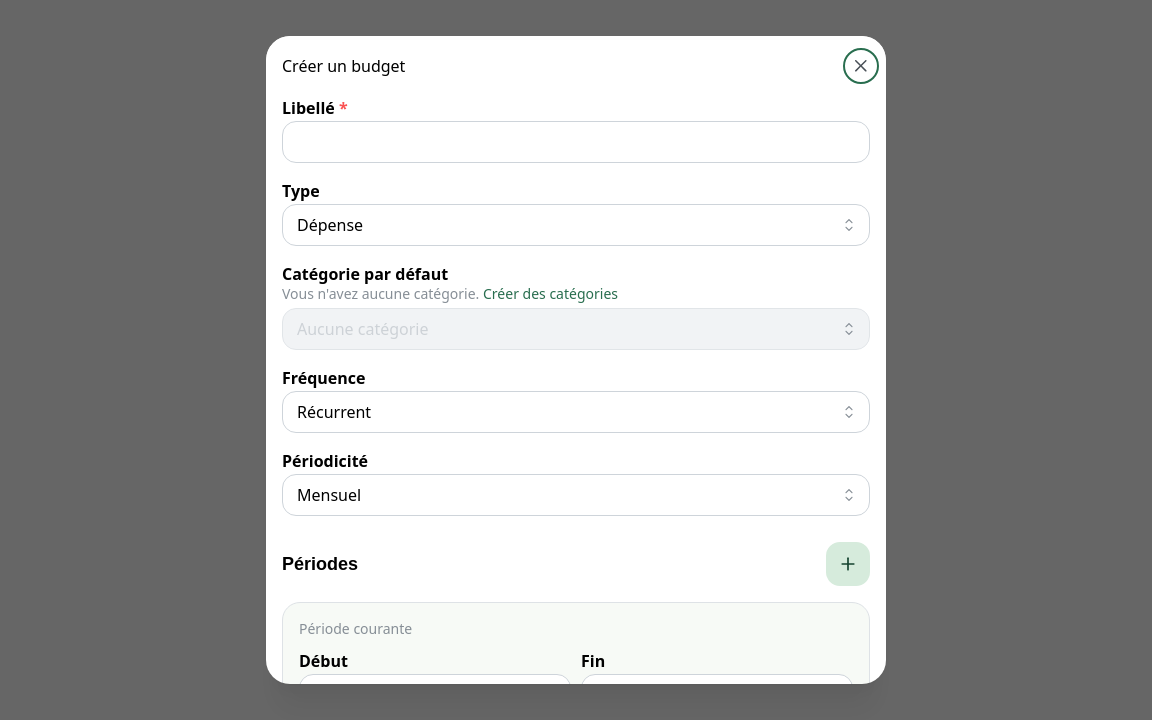
BudgetModal › adds and removes periods
This screenshot has width=1152, height=720.
Expected: the text "Période courante" is shown, [299,619,412,639]
Expected: the text "Période 1" is not shown
Add a period
Click the button named "Ajouter une période".
click(848, 564)  # box [826,542,870,586]
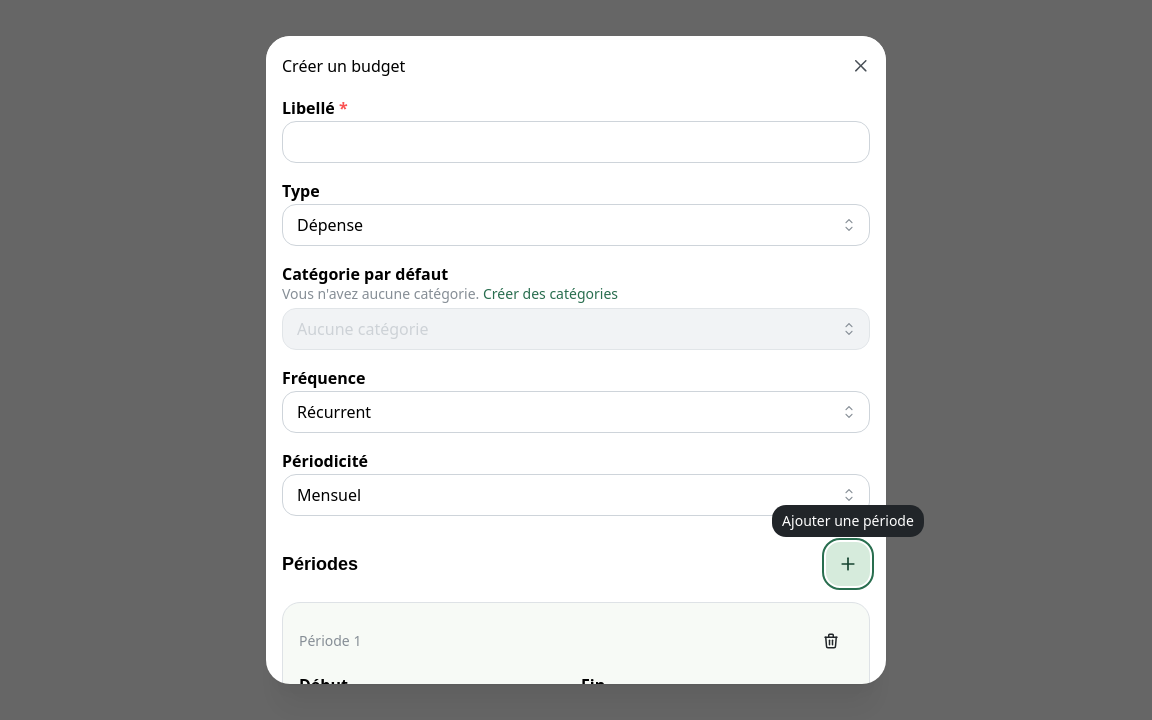
Expected: the text "Période 1" is shown, [299,631,361,651]
Remove the first period
Click the button named "Supprimer".
click(831, 641)  # box [809,619,853,663]
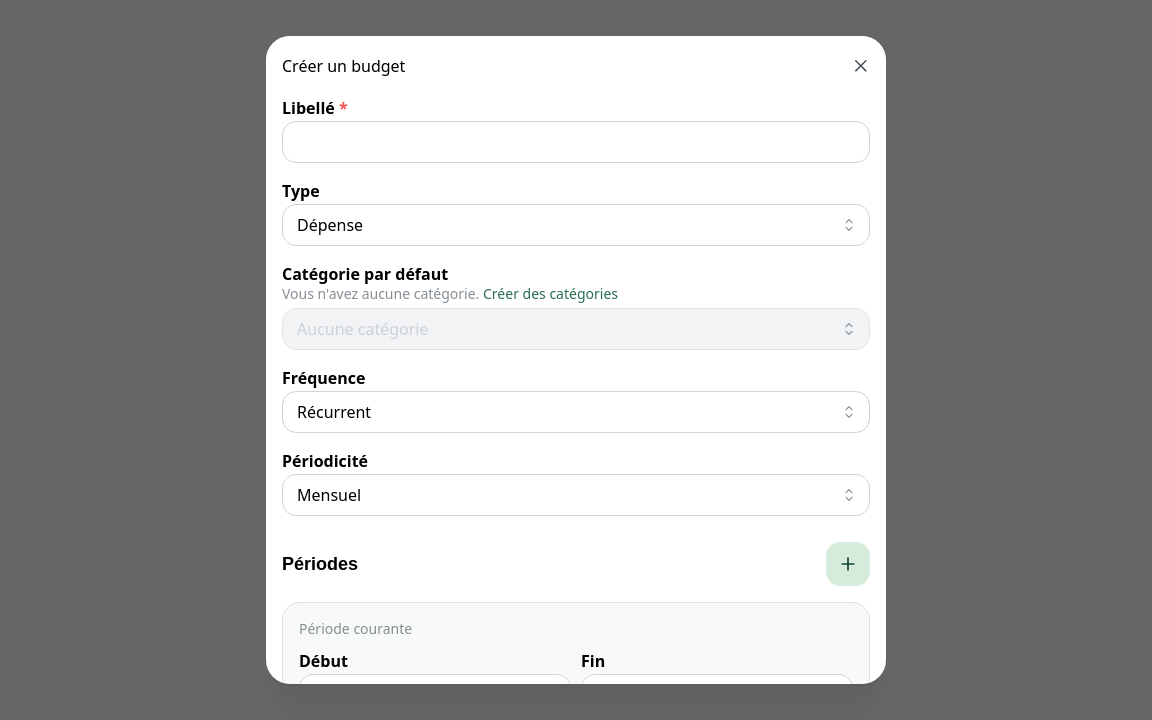
Expected: the text "Période 1" is gone
Expected: the text "Période courante" is shown, [299,619,412,639]
